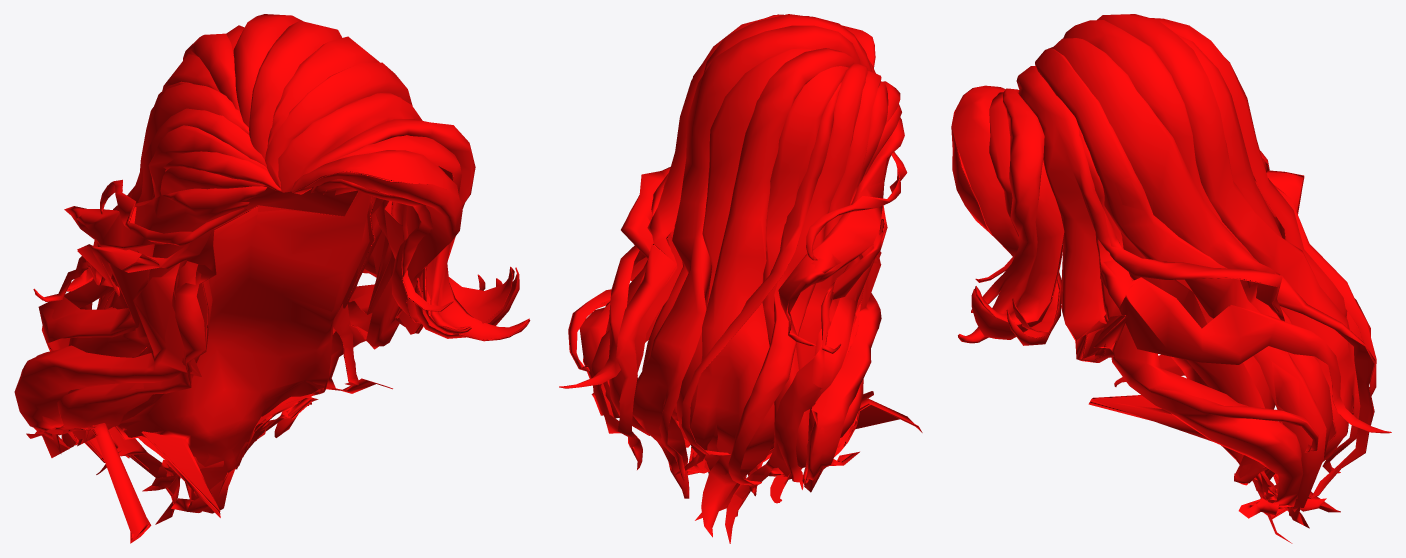
The model's file is culturalibre_hair_17_F.glb.
3 views of the same model, side by side, from view 1: azimuth 30°, elevation 25°; view 2: azimuth 150°, elevation 25°; view 3: azimuth 270°, elevation 25° (orthographic). The views are drawn at different scales.
Bounding box in the file's own units: 0.3211 × 0.4859 × 0.3776.
Materials: 1 (1 with a texture image).
